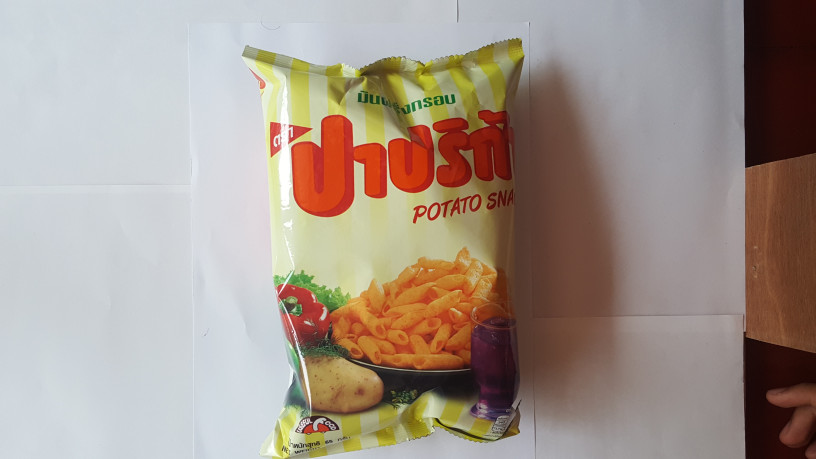paprika: (236, 14, 531, 459)
